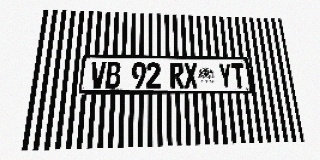2: (146, 62, 160, 88)
9: (132, 62, 146, 88)
B: (105, 62, 121, 88)
R: (170, 63, 184, 88)
T: (231, 63, 246, 88)
V: (90, 62, 106, 88)
X: (184, 63, 198, 88)
Y: (218, 63, 233, 88)
